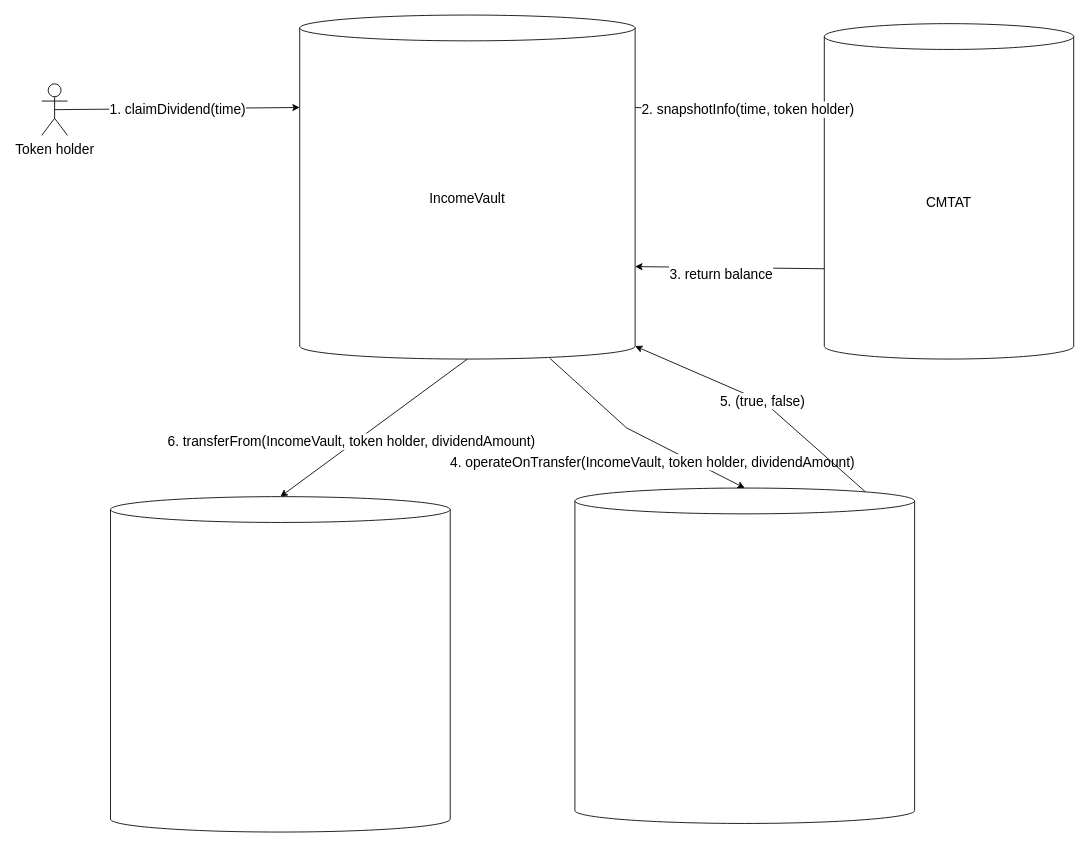
This 1089x847 diagram has some shape labels left out. Here are the shapes that lost their labels. From the top down, the centre of each, then its label:
At pixel 280 664: "ERC-20 dividend".
At pixel 744 655: "RuleEngine".
